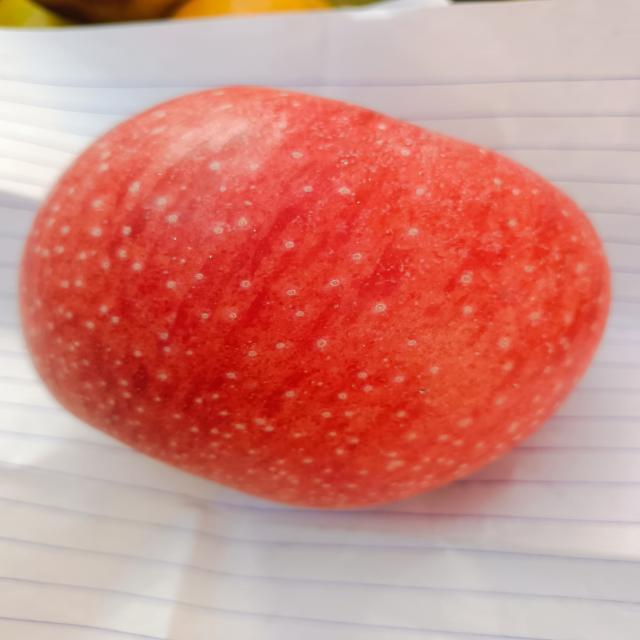Fresh Apple: (25, 90, 597, 518)
